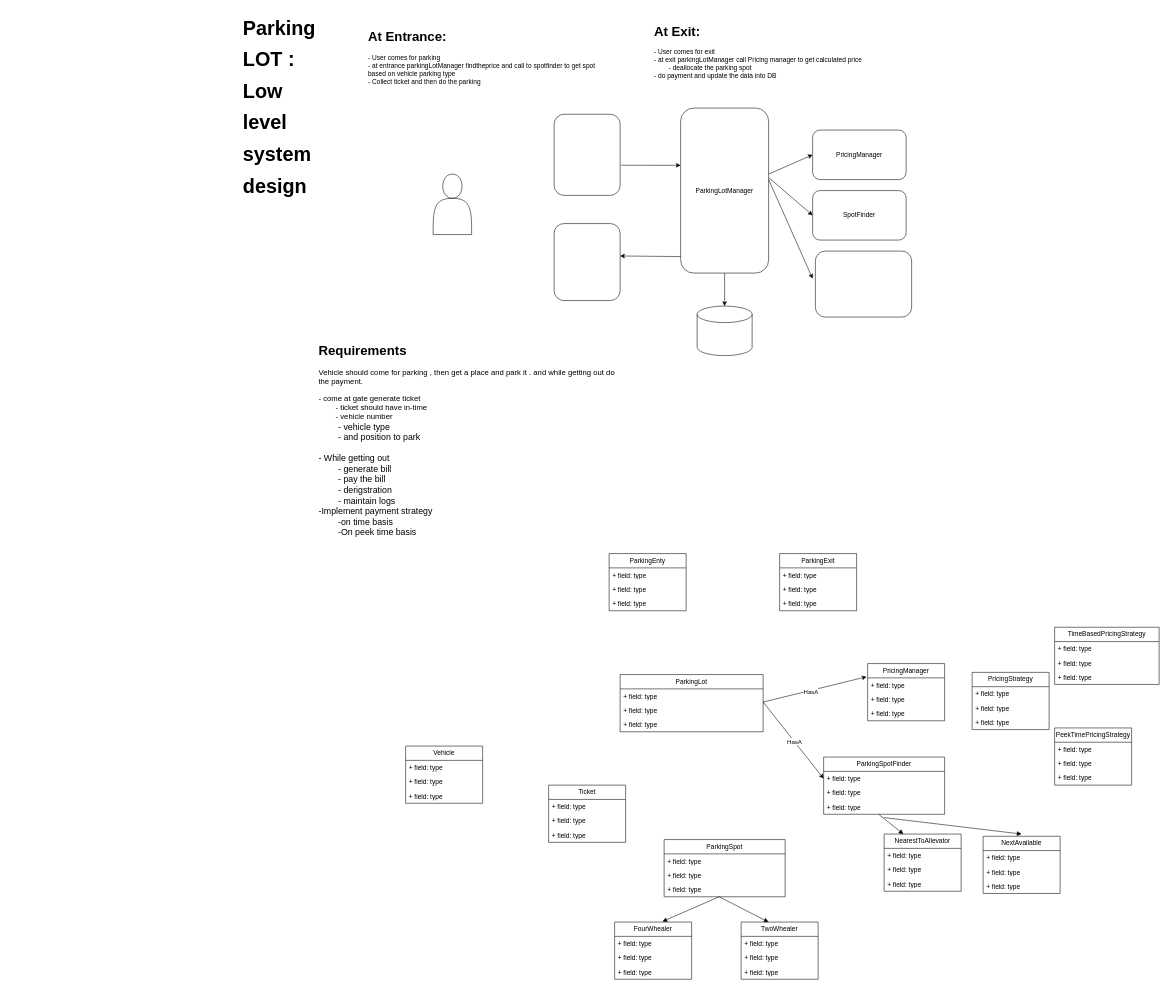
Some shapes in this 1169 by 990 pixel diagram are drawn without their labels. Each missing label, with the centre of its shape:
"DB" goes at point 724,331.
"Entrance" goes at point 587,154.
"Exit" goes at point 587,262.
"PaymentService" goes at point 863,284.
